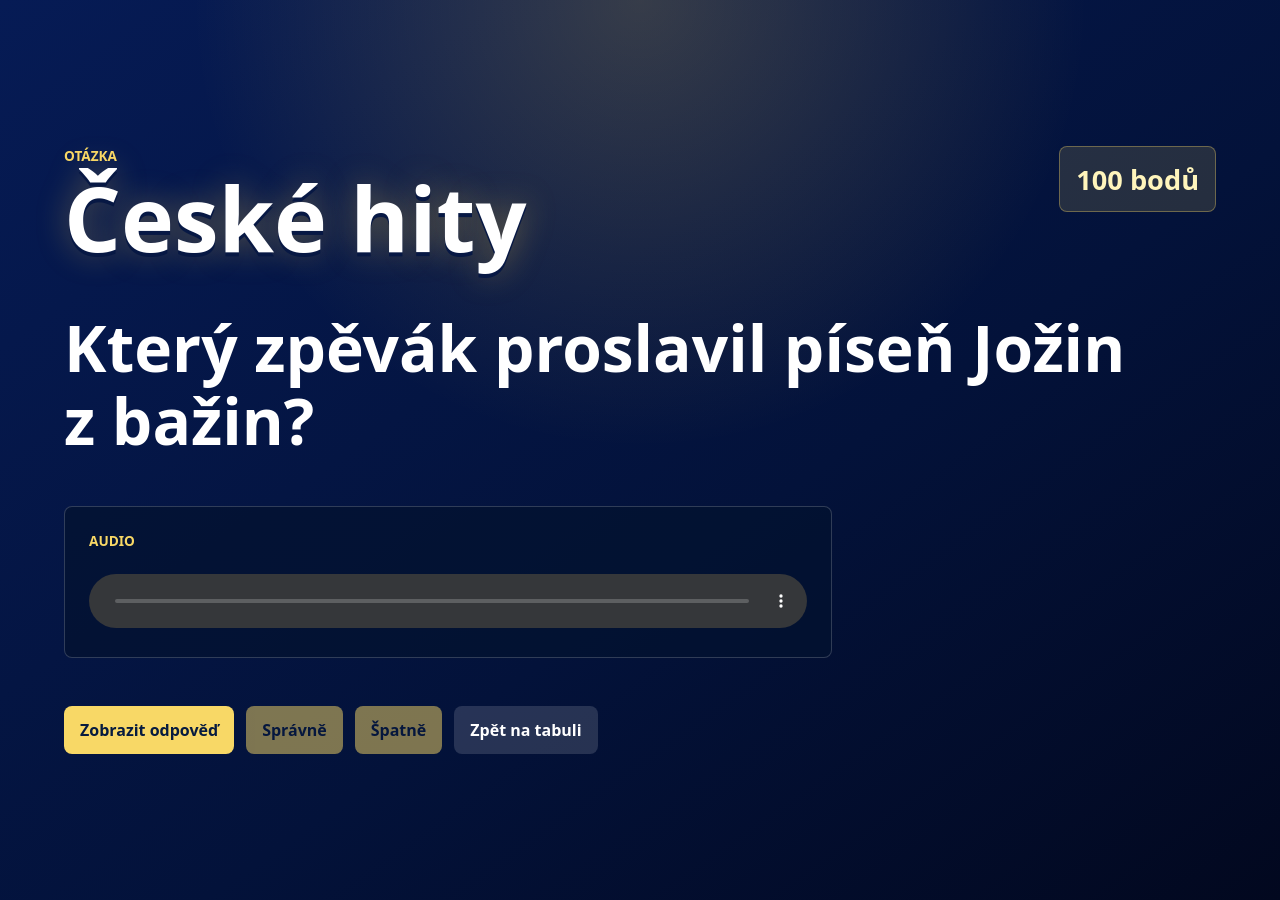
Scenario: QuestionScreen › po kliknutí na Zobrazit odpověď odpověď vykreslí
The width and height of the screenshot is (1280, 900).
Click the button "Zobrazit odpověď": (149, 730) [64, 706, 234, 754]
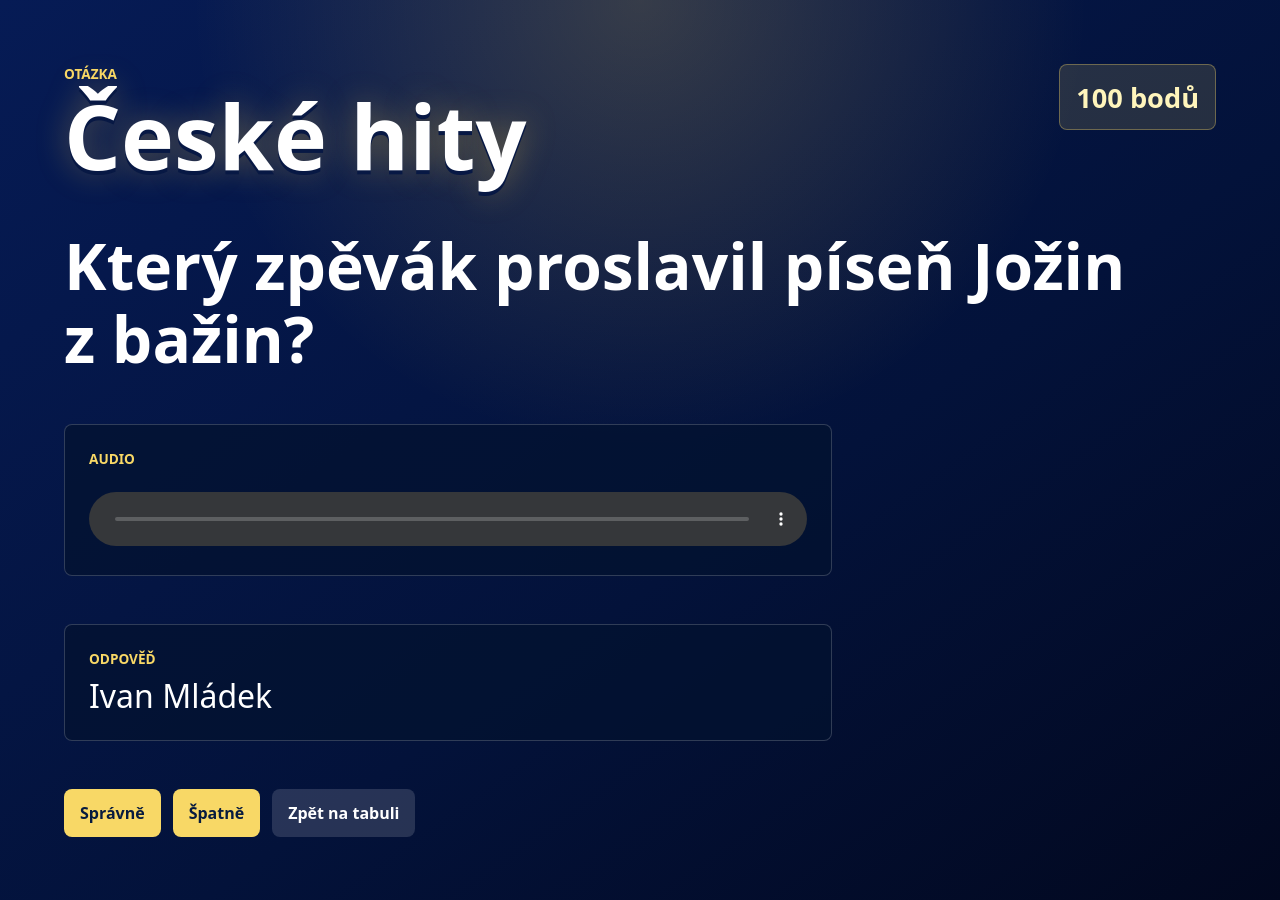
Check: the text "Ivan Mládek" is shown, box [89, 674, 272, 717]
